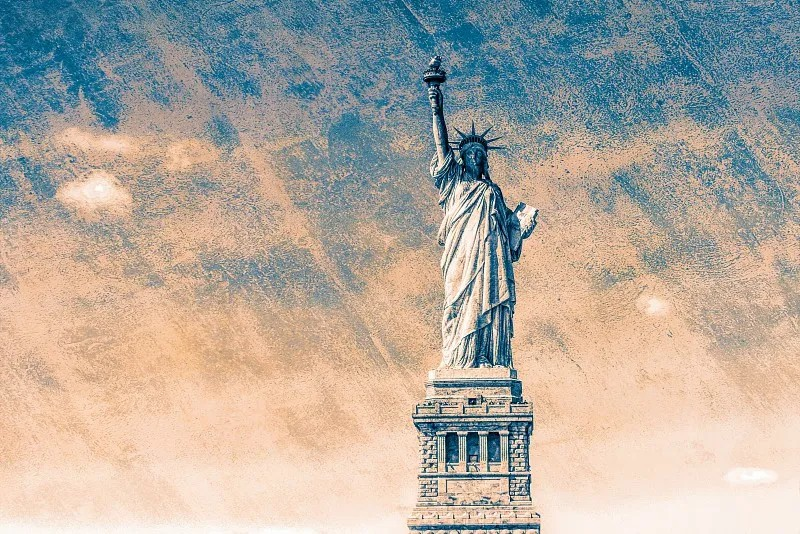SL: (406, 55, 541, 534)
